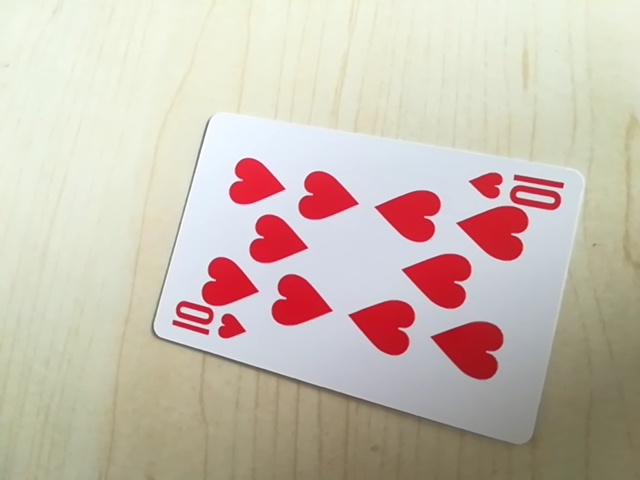hx 10: (466, 167, 569, 209), (169, 303, 249, 345)
